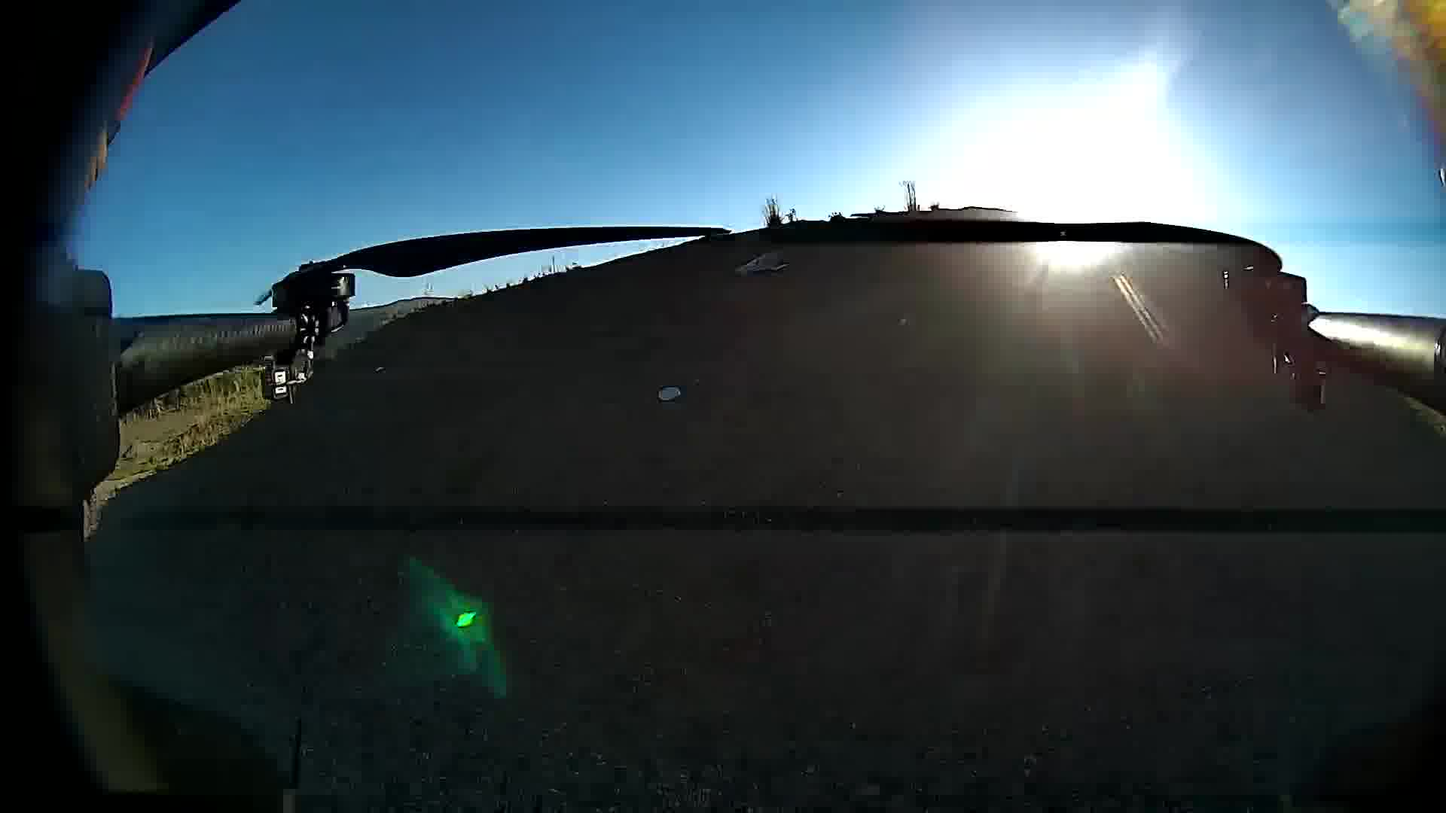Target: (651, 383, 689, 405)
